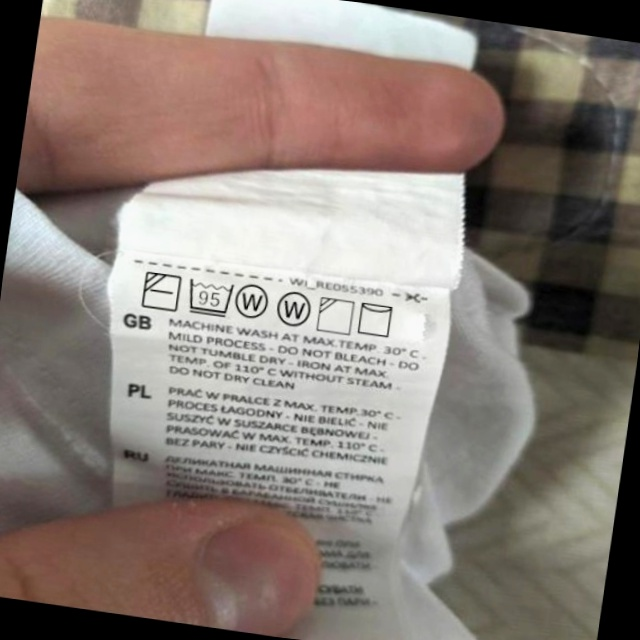95C: (184, 275, 237, 319)
dry_flat_in_shade: (139, 267, 183, 315)
line_dry: (354, 297, 398, 341)
shade_dry: (314, 294, 358, 338)
wet_clean: (273, 288, 315, 332), (233, 278, 274, 323)
